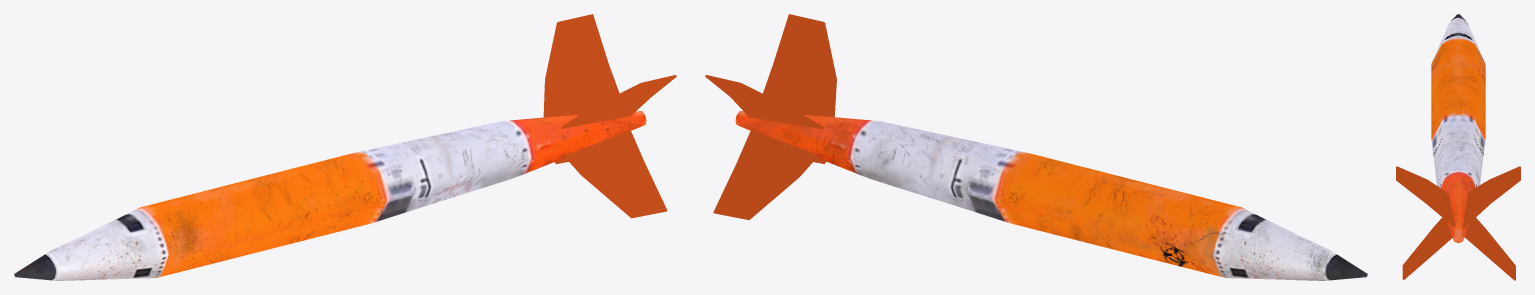
3 views of the same model, side by side, from view 1: azimuth 30°, elevation 25°; view 2: azimuth 150°, elevation 25°; view 3: azimuth 270°, elevation 25° (orthographic). The views are drawn at different scales.
Visible parts, largest first — view 1: B-61_0; view 2: B-61_0; view 3: B-61_0.
Boxes of the visible parts, x1=… form: B-61_0: x1=14, y1=14, x2=676, y2=280; B-61_0: x1=705, y1=14, x2=1367, y2=280; B-61_0: x1=1396, y1=14, x2=1520, y2=280.
Bounding box in the file's own units: 7.86 × 1.68 × 1.84.
2 materials, 1 textured.
